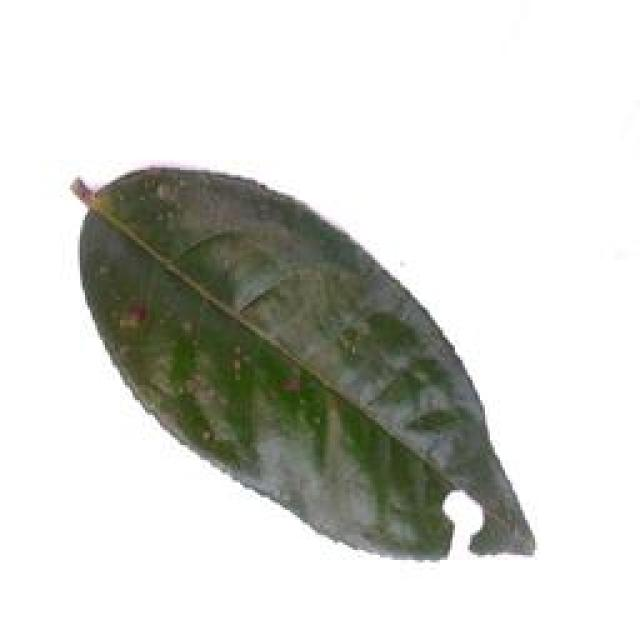Algal Leaf Spot: (69, 172, 547, 594)
